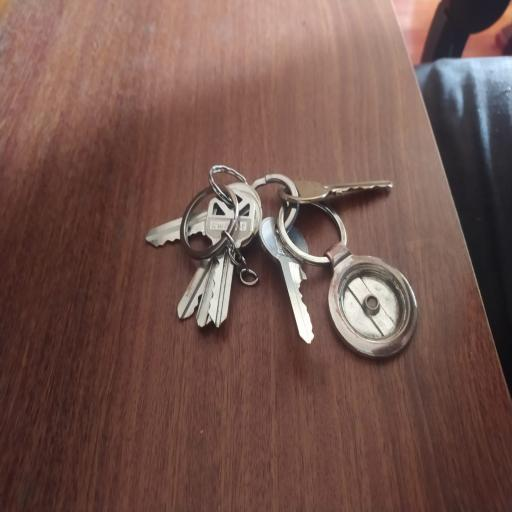Llaves: (139, 152, 426, 376)
